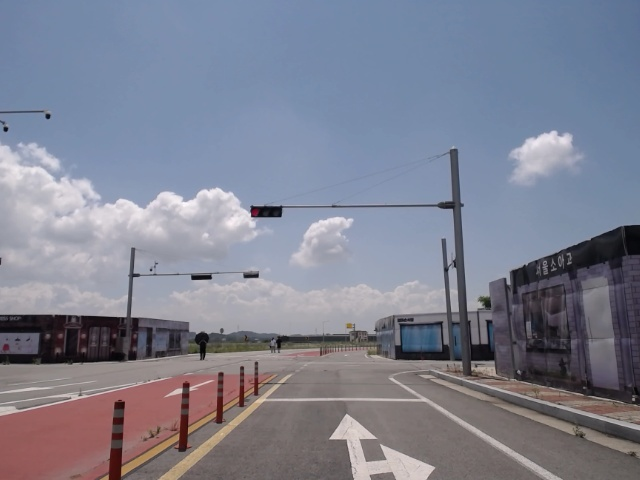red_3: (249, 204, 285, 219)
